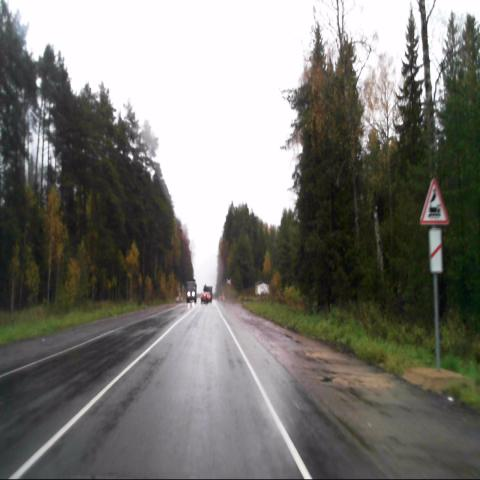1_2: (420, 178, 450, 226)
